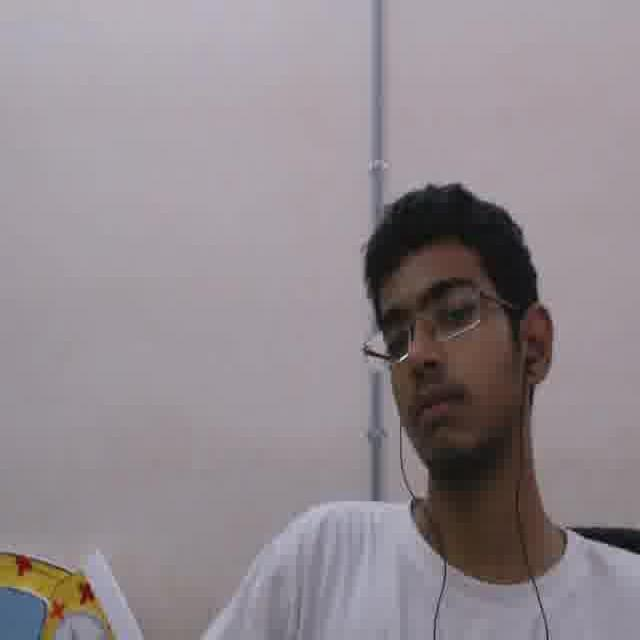Boredom: (376, 243, 513, 461)
